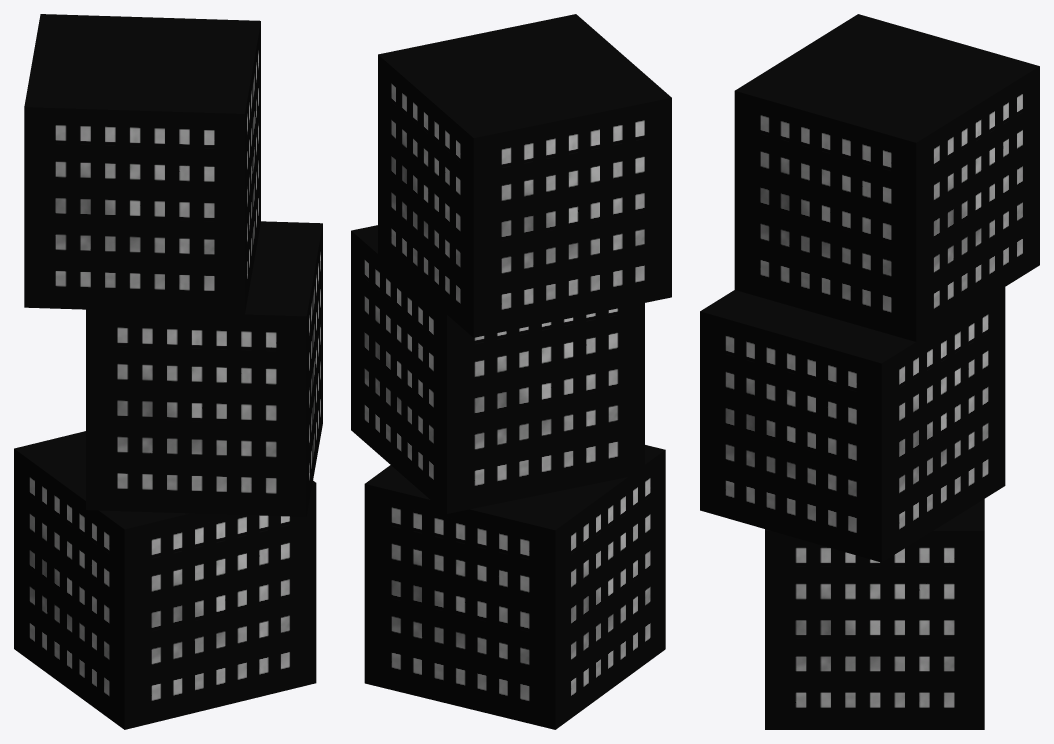
File: house03.dae
3 views of the same model, side by side, from view 1: azimuth 30°, elevation 25°; view 2: azimuth 150°, elevation 25°; view 3: azimuth 270°, elevation 25° (orthographic).
Parts seen in each view (by area): view 1: polySurface1; view 2: polySurface1; view 3: polySurface1.
Boxes of the visible parts, bbox=[...] form: polySurface1: bbox=[14, 14, 322, 729]; polySurface1: bbox=[351, 14, 671, 729]; polySurface1: bbox=[700, 14, 1039, 729].
Size of the model in its own units: 23.34 by 43.2 by 22.27.
1 material, 1 textured.
